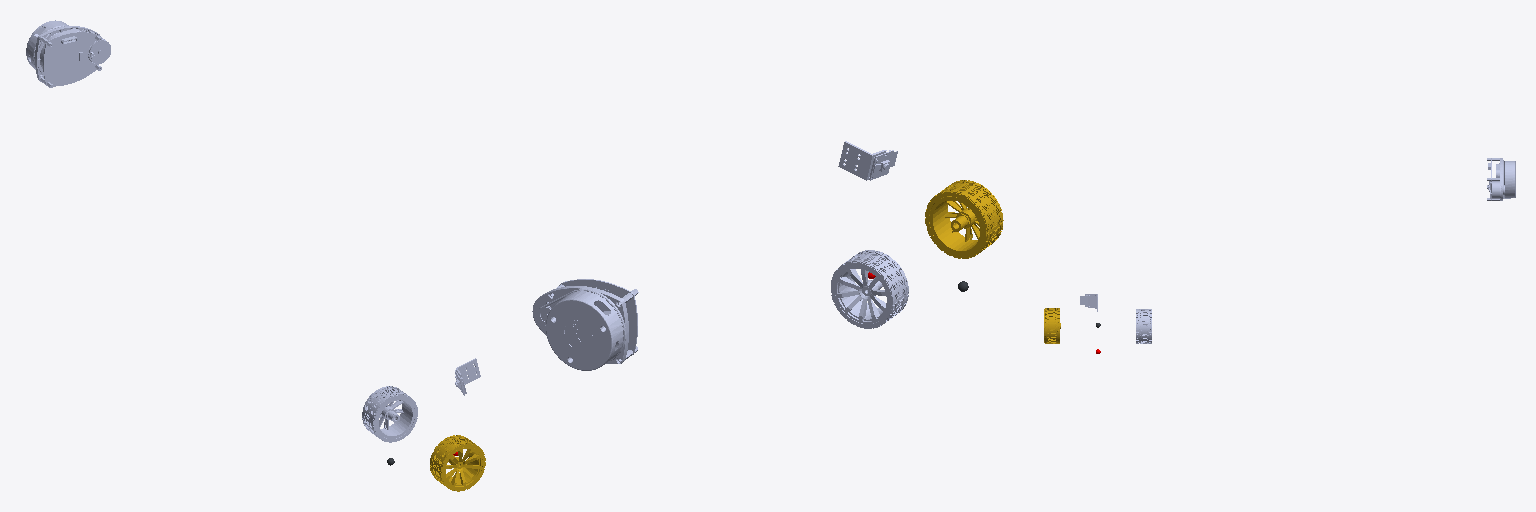
robot.urdf — description:
<?xml version="1.0" encoding="utf-8"?>
<!-- This URDF was automatically created by SolidWorks to URDF Exporter! Originally created by [author] ([email redacted]) 
     Commit Version: 1.6.0-4-g7f85cfe  Build Version: 1.6.7995.38578
     For more information, please see http://wiki.ros.org/sw_urdf_exporter -->
<robot
  name="description">
  <link
    name="base_link">
    <inertial>
      <origin
        xyz="-0.00200985226721874 -0.00277448578669132 0.0152338681517865"
        rpy="0 0 0" />
      <mass
        value="0.091306007508054" />
      <inertia
        ixx="2.35544148873919E-05"
        ixy="8.03602673247749E-08"
        ixz="-1.30819394891219E-07"
        iyy="9.54438344720785E-06"
        iyz="3.1304162447774E-09"
        izz="2.77362876053001E-05" />
    </inertial>
    <visual>
      <origin
        xyz="0 0 0"
        rpy="0 0 0" />
      <geometry>
        <mesh
          filename="package://bumperbot_description/meshes/base_link.STL" />
      </geometry>
      <material
        name="">
        <color
          rgba="0.258823529411765 0.27843137254902 0.301960784313725 1" />
      </material>
    </visual>
    <collision>
      <origin
        xyz="0 0 0"
        rpy="0 0 0" />
      <geometry>
        <mesh
          filename="package://bumperbot_description/meshes/base_link.STL" />
      </geometry>
    </collision>
  </link>
  <link
    name="wheel_right_link">
    <inertial>
      <origin
        xyz="-3.87574191866857E-05 -0.000675136097099426 0.0137052643928599"
        rpy="0 0 0" />
      <mass
        value="0.053008609096452" />
      <inertia
        ixx="1.87894517500837E-05"
        ixy="1.15237668840752E-09"
        ixz="-2.23519263136044E-10"
        iyy="1.88301476416877E-05"
        iyz="-4.35362581811824E-10"
        izz="3.11510738647586E-05" />
    </inertial>
    <visual>
      <origin
        xyz="0 0 0"
        rpy="0 0 0" />
      <geometry>
        <mesh
          filename="package://bumperbot_description/meshes/wheel_right_link.STL" />
      </geometry>
      <material
        name="">
        <color
          rgba="0.831372549019608 0.670588235294118 0.129411764705882 1" />
      </material>
    </visual>
    <collision>
      <origin
        xyz="0 0 0"
        rpy="0 0 0" />
      <geometry>
        <mesh
          filename="package://bumperbot_description/meshes/wheel_right_link.STL" />
      </geometry>
    </collision>
  </link>
  <joint
    name="wheel_right_joint"
    type="continuous">
    <origin
      xyz="0 -0.07011 0"
      rpy="-1.5708 -0.95428 3.1416" />
    <parent
      link="base_link" />
    <child
      link="wheel_right_link" />
    <axis
      xyz="0 0 1" />
  </joint>
  <link
    name="wheel_left_link">
    <inertial>
      <origin
        xyz="2.9582904985663E-05 -0.00067559856452068 0.0137052653316698"
        rpy="0 0 0" />
      <mass
        value="0.0530086043219396" />
      <inertia
        ixx="1.87896350584484E-05"
        ixy="-2.95771466626165E-09"
        ixz="-1.78539279878783E-10"
        iyy="1.88299649252084E-05"
        iyz="-4.55866473624459E-10"
        izz="3.11510738759224E-05" />
    </inertial>
    <visual>
      <origin
        xyz="0 0 0"
        rpy="0 0 0" />
      <geometry>
        <mesh
          filename="package://bumperbot_description/meshes/wheel_left_link.STL" />
      </geometry>
      <material
        name="">
        <color
          rgba="0.792156862745098 0.819607843137255 0.933333333333333 1" />
      </material>
    </visual>
    <collision>
      <origin
        xyz="0 0 0"
        rpy="0 0 0" />
      <geometry>
        <mesh
          filename="package://bumperbot_description/meshes/wheel_left_link.STL" />
      </geometry>
    </collision>
  </link>
  <joint
    name="wheel_left_joint"
    type="continuous">
    <origin
      xyz="0 0.07011 0"
      rpy="1.5708 0.36986 3.1416" />
    <parent
      link="base_link" />
    <child
      link="wheel_left_link" />
    <axis
      xyz="0 0 1" />
  </joint>
  <link
    name="caster_front_link">
    <inertial>
      <origin
        xyz="3.89968128948481E-07 2.40073004694613E-07 0.00219173397061508"
        rpy="0 0 0" />
      <mass
        value="1.44379265037903E-06" />
      <inertia
        ixx="7.23075276010246E-11"
        ixy="-6.10956883468768E-16"
        ixz="2.22849693525086E-15"
        iyy="3.8713793085917E-11"
        iyz="2.93909858781801E-15"
        izz="1.00967486676306E-10" />
    </inertial>
    <visual>
      <origin
        xyz="0 0 0"
        rpy="0 0 0" />
      <geometry>
        <mesh
          filename="package://bumperbot_description/meshes/caster_front_link.STL" />
      </geometry>
      <material
        name="">
        <color
          rgba="1 0 0 1" />
      </material>
    </visual>
    <collision>
      <origin
        xyz="0 0 0"
        rpy="0 0 0" />
      <geometry>
        <mesh
          filename="package://bumperbot_description/meshes/caster_front_link.STL" />
      </geometry>
    </collision>
  </link>
  <joint
    name="caster_front_joint"
    type="fixed">
    <origin
      xyz="0.04755 0 -0.025363"
      rpy="0 0 0" />
    <parent
      link="base_link" />
    <child
      link="caster_front_link" />
    <axis
      xyz="0 0 0" />
  </joint>
  <link
    name="caster_rear_link">
    <inertial>
      <origin
        xyz="3.8996812895542E-07 2.40073004698083E-07 0.00219173397061508"
        rpy="0 0 0" />
      <mass
        value="1.44379265037902E-06" />
      <inertia
        ixx="7.23075276010246E-11"
        ixy="-6.10956872361E-16"
        ixz="2.22849693527162E-15"
        iyy="3.87137930859167E-11"
        iyz="2.93909858786235E-15"
        izz="1.00967486676306E-10" />
    </inertial>
    <visual>
      <origin
        xyz="0 0 0"
        rpy="0 0 0" />
      <geometry>
        <mesh
          filename="package://bumperbot_description/meshes/caster_rear_link.STL" />
      </geometry>
      <material
        name="">
        <color
          rgba="0.258823529411765 0.27843137254902 0.301960784313725 1" />
      </material>
    </visual>
    <collision>
      <origin
        xyz="0 0 0"
        rpy="0 0 0" />
      <geometry>
        <mesh
          filename="package://bumperbot_description/meshes/caster_rear_link.STL" />
      </geometry>
    </collision>
  </link>
  <joint
    name="caster_rear_joint"
    type="fixed">
    <origin
      xyz="-0.04755 0 -0.025363"
      rpy="0 0 0" />
    <parent
      link="base_link" />
    <child
      link="caster_rear_link" />
    <axis
      xyz="0 0 0" />
  </joint>
  <link
    name="camera_link">
    <inertial>
      <origin
        xyz="-0.0122943599302166 -9.0517329706663E-07 0.008436849003846"
        rpy="0 0 0" />
      <mass
        value="0.0041086489783227" />
      <inertia
        ixx="3.98797447678453E-07"
        ixy="-8.24558929782781E-11"
        ixz="1.22069699665359E-07"
        iyy="4.18205575812023E-07"
        iyz="-1.01562924198133E-10"
        izz="4.28578734986183E-07" />
    </inertial>
    <visual>
      <origin
        xyz="0 0 0"
        rpy="0 0 0" />
      <geometry>
        <mesh
          filename="package://bumperbot_description/meshes/camera_link.STL" />
      </geometry>
      <material
        name="">
        <color
          rgba="0.792156862745098 0.819607843137255 0.933333333333333 1" />
      </material>
    </visual>
    <collision>
      <origin
        xyz="0 0 0"
        rpy="0 0 0" />
      <geometry>
        <mesh
          filename="package://bumperbot_description/meshes/camera_link.STL" />
      </geometry>
    </collision>
  </link>
  <joint
    name="camera_joint"
    type="fixed">
    <origin
      xyz="0.081561 0 0.067457"
      rpy="0 -0.23739 0" />
    <parent
      link="base_link" />
    <child
      link="camera_link" />
    <axis
      xyz="0 0 0" />
  </joint>
  <link
    name="laser_link">
    <inertial>
      <origin
        xyz="-0.0119457804060619 -0.000381929217680516 -0.0170649378129477"
        rpy="0 0 0" />
      <mass
        value="0.073084435549317" />
      <inertia
        ixx="1.96074931730795E-05"
        ixy="-3.62091076640008E-07"
        ixz="4.28230084046735E-07"
        iyy="2.40983835136327E-05"
        iyz="1.50180909250648E-08"
        izz="4.14184164228596E-05" />
    </inertial>
    <visual>
      <origin
        xyz="0 0 0"
        rpy="0 0 0" />
      <geometry>
        <mesh
          filename="package://bumperbot_description/meshes/laser_link.STL" />
      </geometry>
      <material
        name="">
        <color
          rgba="0.792156862745098 0.819607843137255 0.933333333333333 1" />
      </material>
    </visual>
    <collision>
      <origin
        xyz="0 0 0"
        rpy="0 0 0" />
      <geometry>
        <mesh
          filename="package://bumperbot_description/meshes/laser_link.STL" />
      </geometry>
    </collision>
  </link>
  <joint
    name="laser_joint"
    type="fixed">
    <origin
      xyz="-0.0050526 -0.0023221 0.1208"
      rpy="0 0 0" />
    <parent
      link="base_link" />
    <child
      link="laser_link" />
    <axis
      xyz="0 0 0" />
  </joint>
  <link
    name="imu_link">
    <inertial>
      <origin
        xyz="-0.00552433659106684 0.000168210391520349 0.000514000497342681"
        rpy="0 0 0" />
      <mass
        value="0.000528415362211671" />
      <inertia
        ixx="1.46176048428261E-08"
        ixy="1.4001511794942E-10"
        ixz="-1.99633872937415E-12"
        iyy="8.59662482954888E-09"
        iyz="7.52375112767954E-12"
        izz="2.30279421279312E-08" />
    </inertial>
    <visual>
      <origin
        xyz="0 0 0"
        rpy="0 0 0" />
      <geometry>
        <mesh
          filename="package://bumperbot_description/meshes/imu_link.STL" />
      </geometry>
      <material
        name="">
        <color
          rgba="0.792156862745098 0.819607843137255 0.933333333333333 1" />
      </material>
    </visual>
    <collision>
      <origin
        xyz="0 0 0"
        rpy="0 0 0" />
      <geometry>
        <mesh
          filename="package://bumperbot_description/meshes/imu_link.STL" />
      </geometry>
    </collision>
  </link>
  <joint
    name="imu_joint"
    type="fixed">
    <origin
      xyz="0 0 0.069899"
      rpy="3.1416 0 0" />
    <parent
      link="base_link" />
    <child
      link="imu_link" />
    <axis
      xyz="0 0 0" />
  </joint>
</robot>

--- Render facts (derived) ---
3 views of the same robot in one strip: view 1: azimuth 30°, elevation 25°; view 2: azimuth 150°, elevation 25°; view 3: azimuth 270°, elevation 25° (orthographic).
Model description with 8 links and 7 joints (2 continuous, 5 fixed), rooted at base_link, posed all joints at 0.
Visible links, largest first — view 1: laser_link, wheel_left_link, wheel_right_link, camera_link; view 2: laser_link, wheel_right_link, wheel_left_link, camera_link; view 3: laser_link, wheel_right_link, wheel_left_link.
Boxes of the visible links, bbox=[...] form: laser_link: bbox=[26, 20, 110, 87]; wheel_left_link: bbox=[362, 386, 417, 442]; wheel_right_link: bbox=[430, 435, 485, 491]; camera_link: bbox=[455, 358, 480, 395]; laser_link: bbox=[532, 279, 638, 370]; wheel_right_link: bbox=[925, 180, 1003, 258]; wheel_left_link: bbox=[831, 250, 908, 328]; camera_link: bbox=[838, 141, 897, 180]; laser_link: bbox=[1487, 158, 1515, 200]; wheel_right_link: bbox=[1044, 308, 1060, 343]; wheel_left_link: bbox=[1136, 309, 1151, 343].
Bounding box of the posed robot: 0.2131 × 0.8699 × 0.3245 m (x, y, z).
6 mesh visuals loaded from 8 distinct referenced files (6 binary STL); not drawn: 2 (reference not matched to a file when rendering).